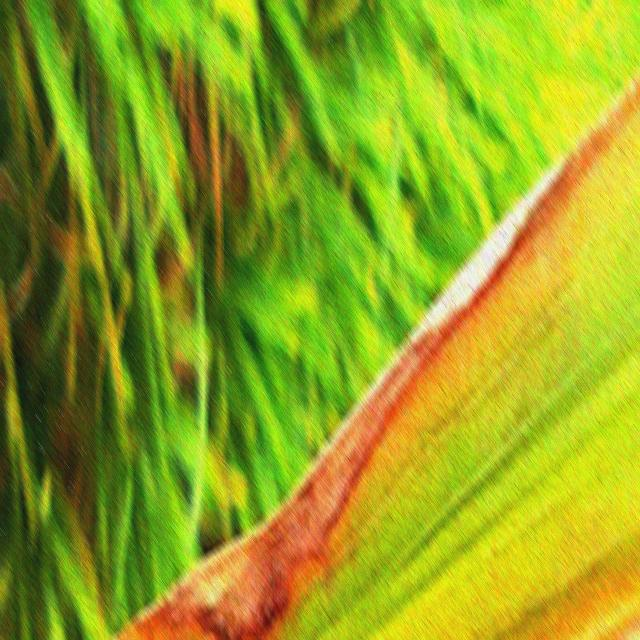LEAF BLAST: (151, 140, 575, 640)
